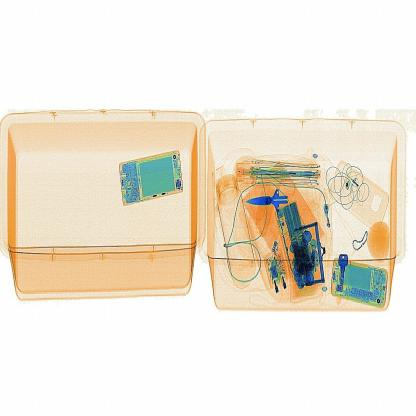gun: (245, 176, 304, 222)
